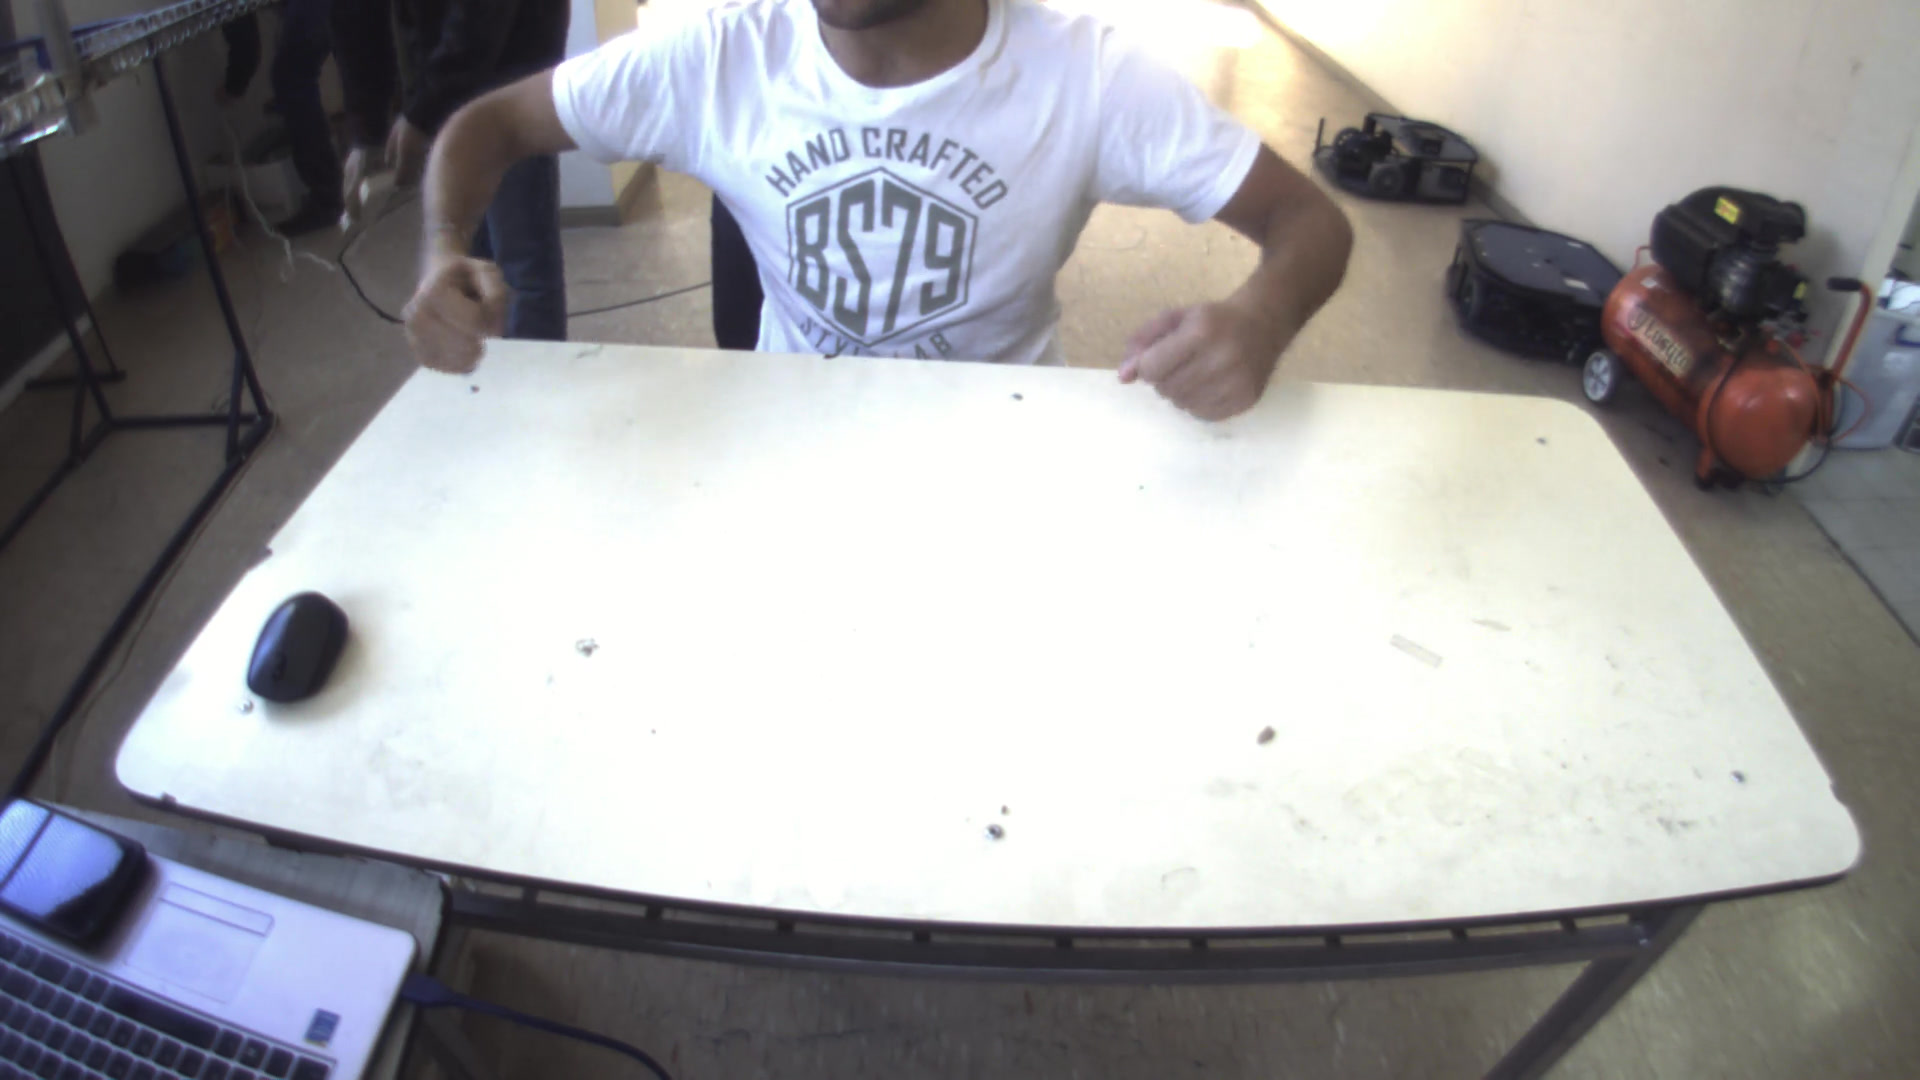hand: (1110, 290, 1280, 426), (388, 248, 514, 381)
